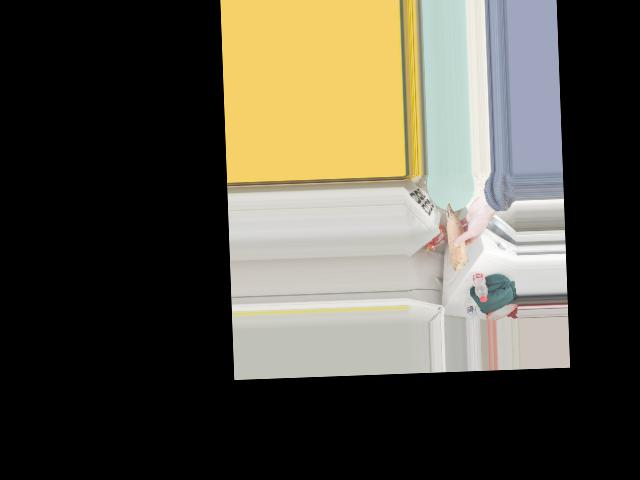sweet_potato: (444, 201, 471, 273)
